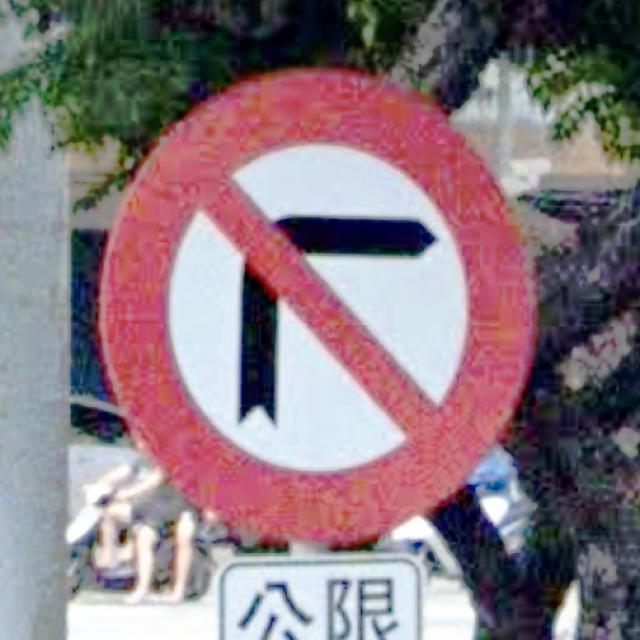noturnright: (98, 69, 536, 545)
